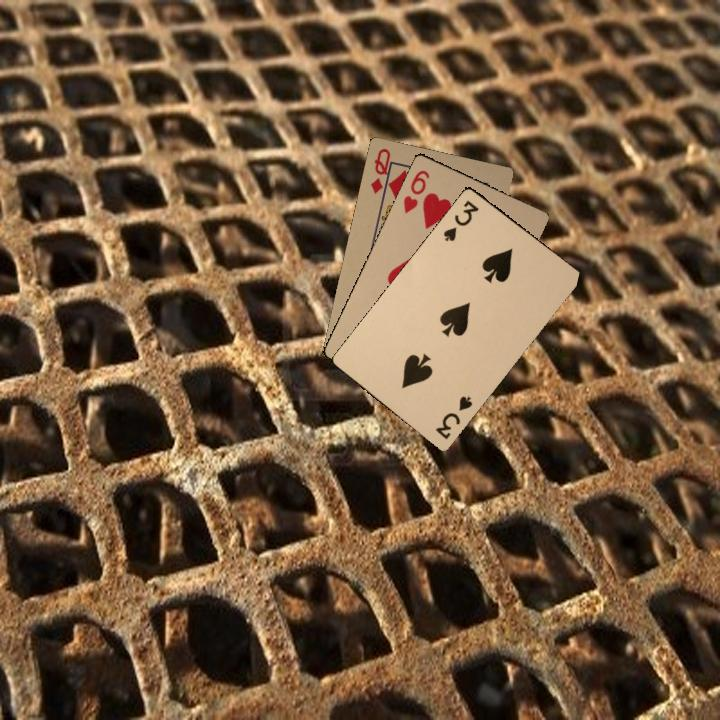3s: (431, 392, 475, 442), (439, 196, 481, 244)
6h: (399, 166, 432, 215)
Qd: (366, 144, 395, 201)
